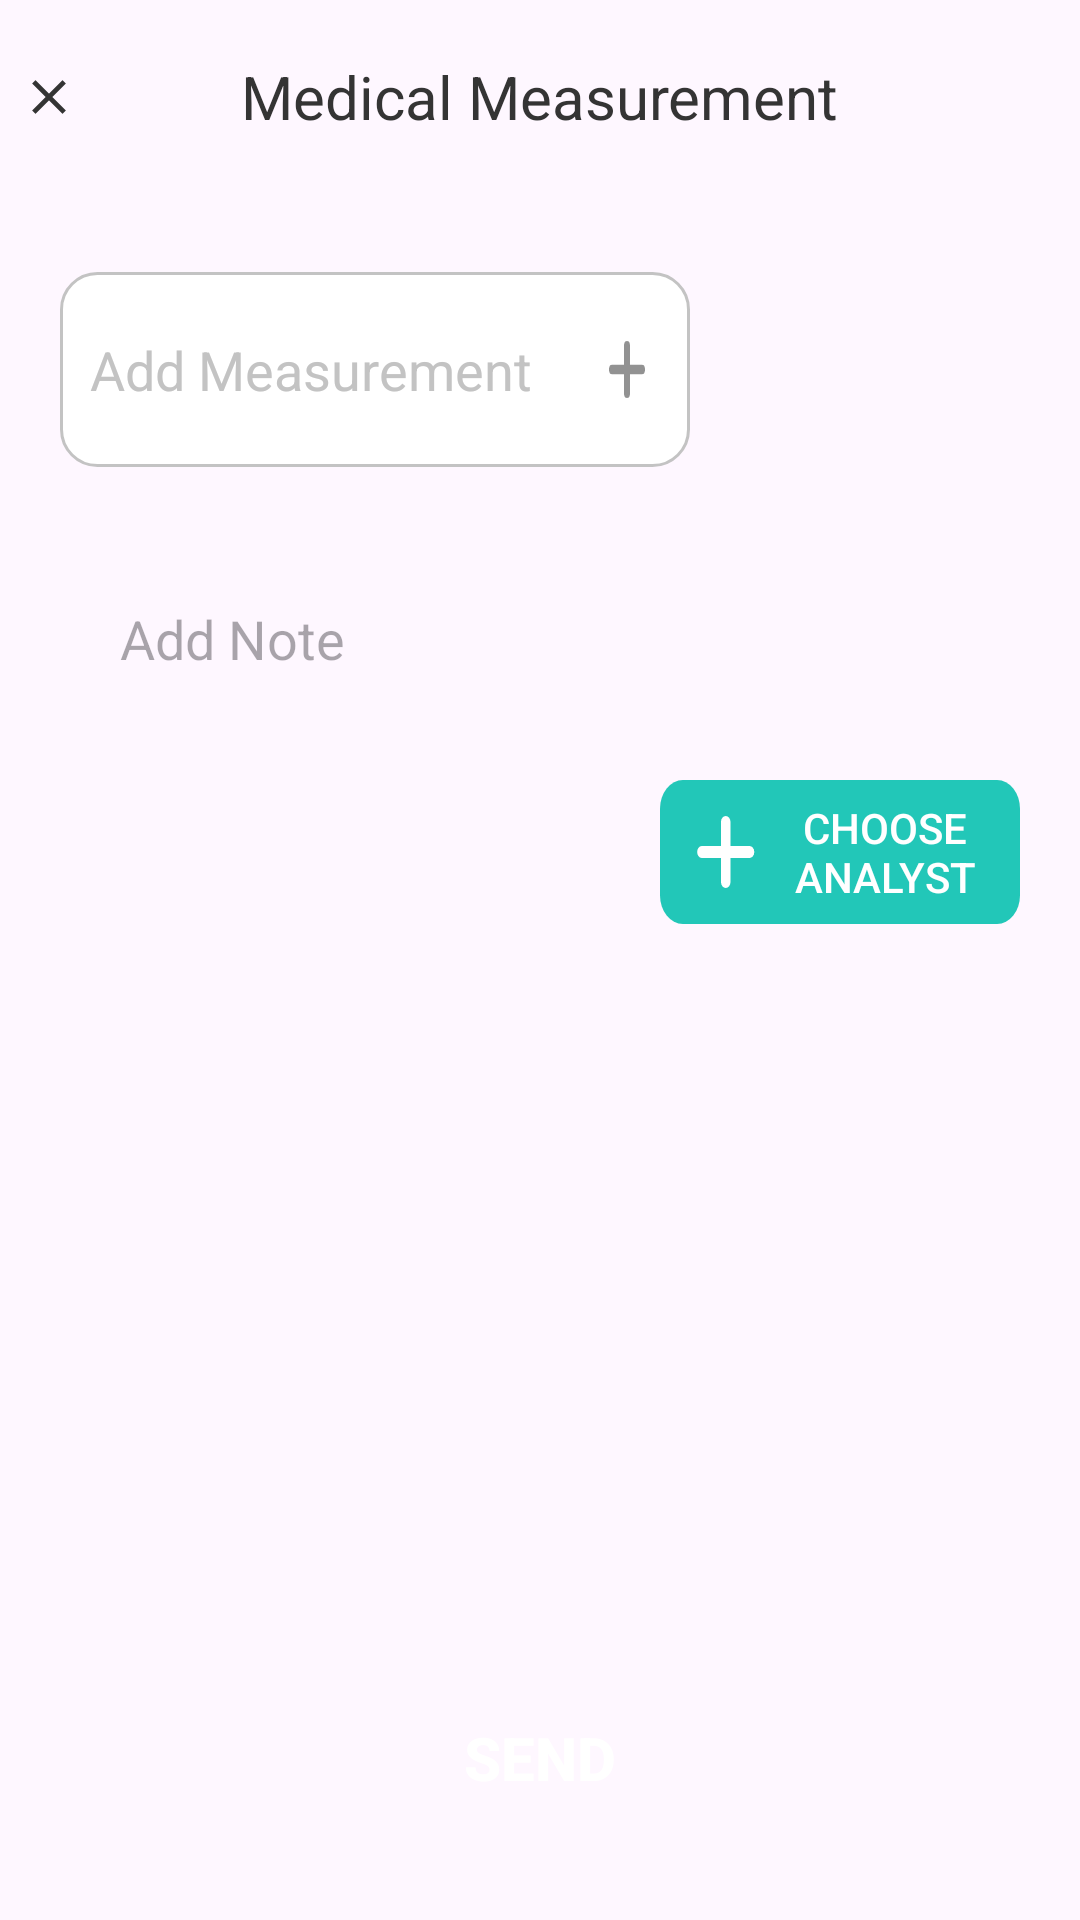

Point at icon controls on the screen. Image size 1080×1920, points as [x,y].
close: [49,97]
plus: [627,369]
